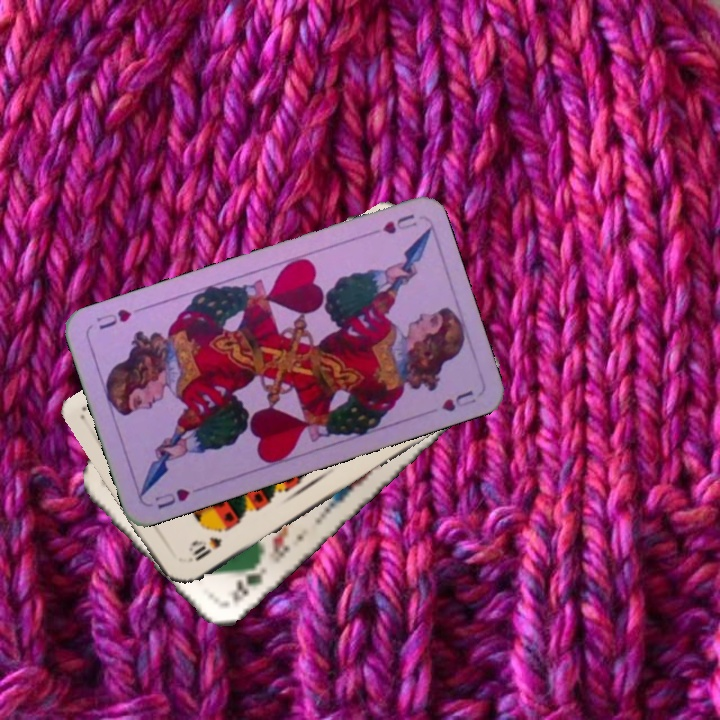GK: (227, 558, 269, 605)
HU: (363, 209, 420, 239), (150, 484, 192, 512)
S10: (183, 533, 224, 565)
